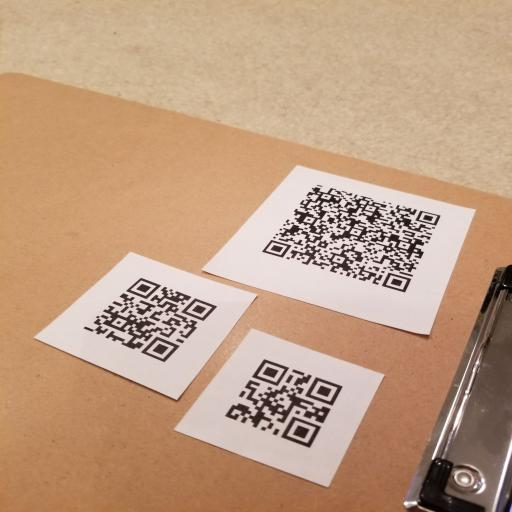QR_CODE: (256, 177, 450, 302), (75, 271, 221, 364), (219, 355, 348, 453)
